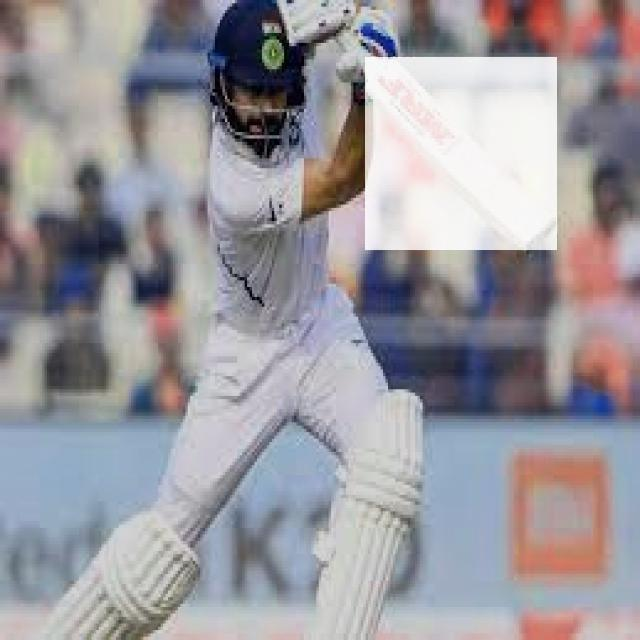bat: (365, 58, 557, 251)
toe: (518, 221, 555, 250)
